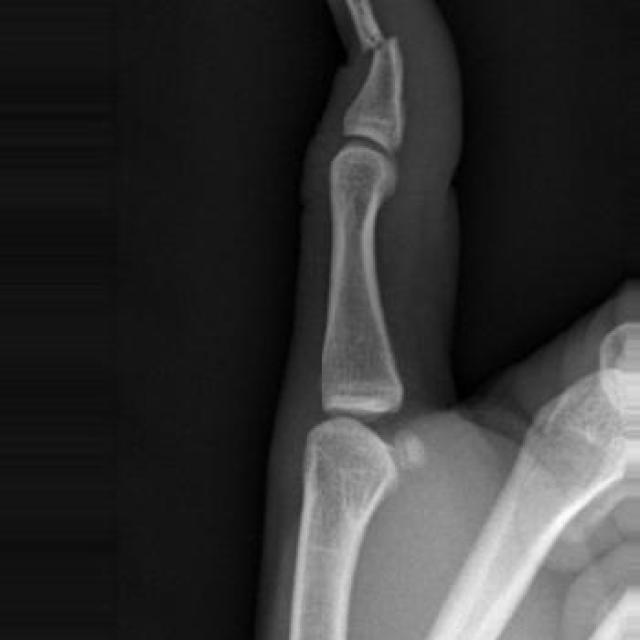Fracture: (346, 24, 412, 70)
